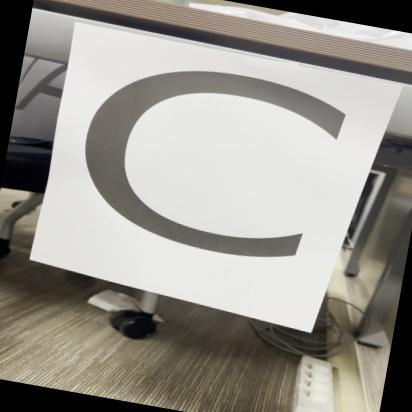seat: (24, 26, 373, 336)
